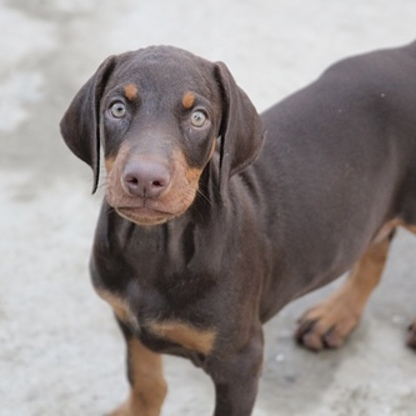doberman: (44, 36, 416, 413)
